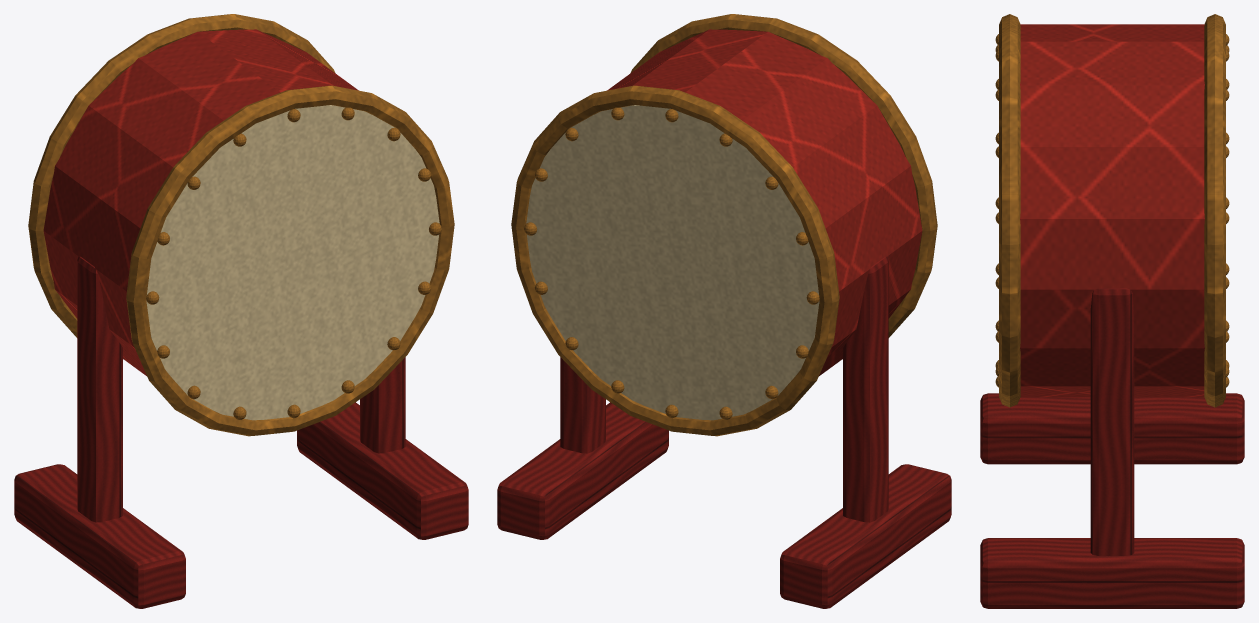
The model's file is ceremonial_drum.glb.
3 views of the same model, side by side, from view 1: azimuth 30°, elevation 25°; view 2: azimuth 150°, elevation 25°; view 3: azimuth 270°, elevation 25° (orthographic). The views are drawn at different scales.
Visible parts, largest first — view 1: ceremonial_drum_Paper, ceremonial_drum_Lacquer, ceremonial_drum_Brocade, ceremonial_drum_Brass; view 2: ceremonial_drum_Paper, ceremonial_drum_Lacquer, ceremonial_drum_Brocade, ceremonial_drum_Brass; view 3: ceremonial_drum_Brocade, ceremonial_drum_Lacquer, ceremonial_drum_Brass.
Part boxes in pixels (x1=…): ceremonial_drum_Paper: x1=146, y1=105, x2=439, y2=420; ceremonial_drum_Lacquer: x1=14, y1=256, x2=468, y2=608; ceremonial_drum_Brocade: x1=43, y1=29, x2=358, y2=375; ceremonial_drum_Brass: x1=28, y1=14, x2=454, y2=436; ceremonial_drum_Paper: x1=526, y1=105, x2=819, y2=420; ceremonial_drum_Lacquer: x1=497, y1=256, x2=951, y2=608; ceremonial_drum_Brocade: x1=607, y1=29, x2=922, y2=375; ceremonial_drum_Brass: x1=511, y1=14, x2=937, y2=436; ceremonial_drum_Brocade: x1=1020, y1=24, x2=1204, y2=397; ceremonial_drum_Lacquer: x1=980, y1=288, x2=1244, y2=608; ceremonial_drum_Brass: x1=995, y1=14, x2=1229, y2=407.
Size of the model in its own units: 1.3 by 1.76 by 0.85.
4 materials, 4 textured.
